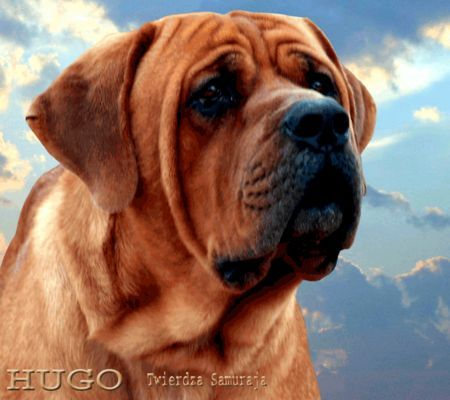tosa_inu: (0, 9, 378, 400)
